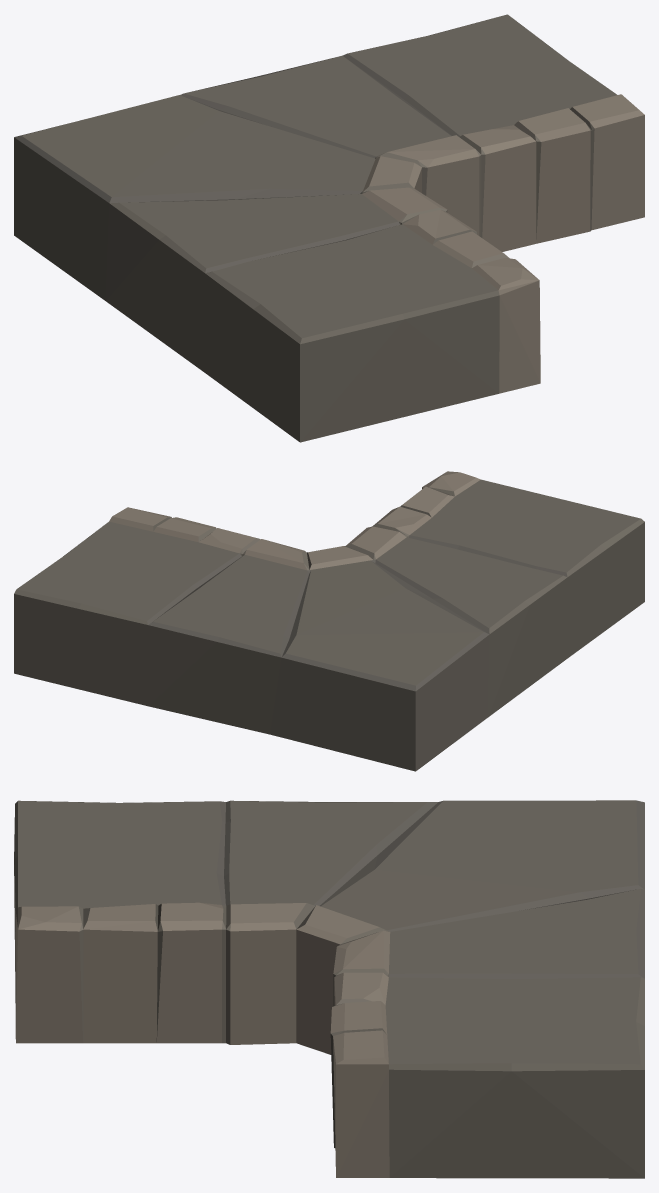
Rendered from SM_Env_Sidewalk_Corner_02.glb.
3 views of the same model, one above another, from view 1: azimuth 30°, elevation 25°; view 2: azimuth 150°, elevation 25°; view 3: azimuth 270°, elevation 25° (orthographic). The views are drawn at different scales.
Visible parts, largest first — view 1: SM_Env_Sidewalk_Corner_02; view 2: SM_Env_Sidewalk_Corner_02; view 3: SM_Env_Sidewalk_Corner_02.
Part boxes in pixels (box(x1,y1,x2,y2)): SM_Env_Sidewalk_Corner_02: box(14, 14, 644, 442); SM_Env_Sidewalk_Corner_02: box(14, 471, 644, 771); SM_Env_Sidewalk_Corner_02: box(14, 800, 644, 1178).
Size of the model in its own units: 5.06 by 1.05 by 5.03.
Materials: 1 (1 with a texture image).
